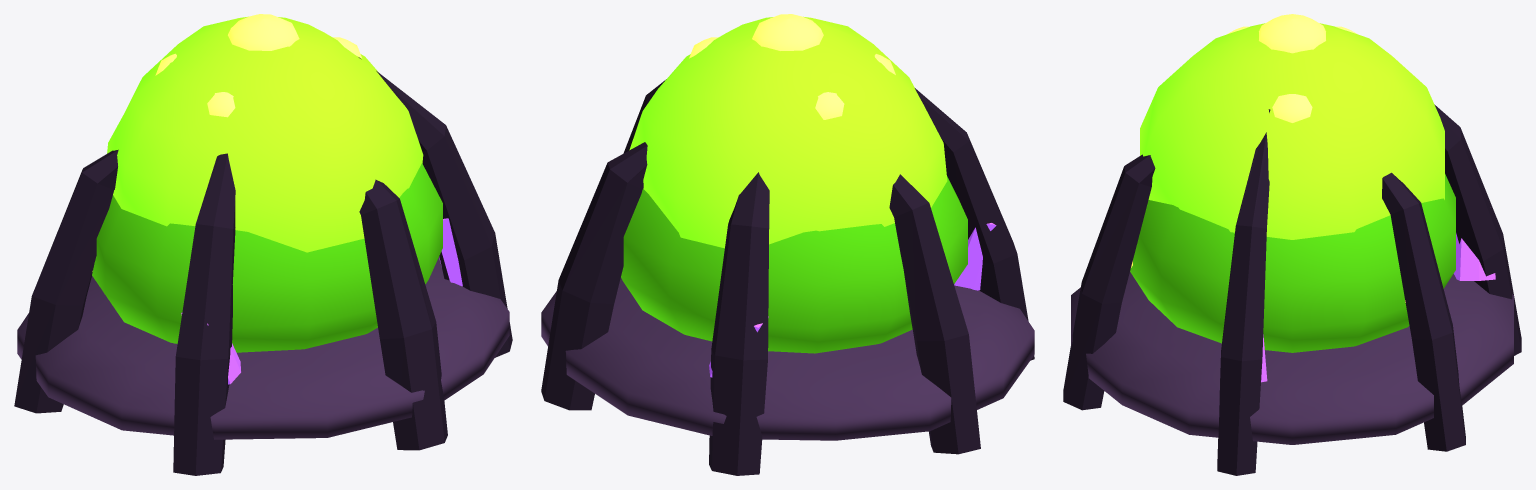
The model's file is sporeburst_cocoon.glb.
3 views of the same model, side by side, from view 1: azimuth 30°, elevation 25°; view 2: azimuth 150°, elevation 25°; view 3: azimuth 270°, elevation 25° (orthographic).
Visible parts, largest first — view 1: CocoonHusk, Sacs, Surf_TEAM; view 2: CocoonHusk, Sacs, Surf_TEAM; view 3: Sacs, CocoonHusk, Surf_TEAM.
Boxes of the visible parts, x1,y1,x2,y2 form: CocoonHusk: [14, 57, 512, 475]; Sacs: [92, 14, 442, 352]; Surf_TEAM: [181, 218, 462, 384]; CocoonHusk: [541, 79, 1034, 475]; Sacs: [621, 14, 967, 353]; Surf_TEAM: [709, 223, 996, 377]; Sacs: [1130, 14, 1455, 352]; CocoonHusk: [1063, 104, 1521, 475]; Surf_TEAM: [1261, 233, 1495, 382].
Size of the model in its own units: 1.48 by 1.16 by 1.35.
